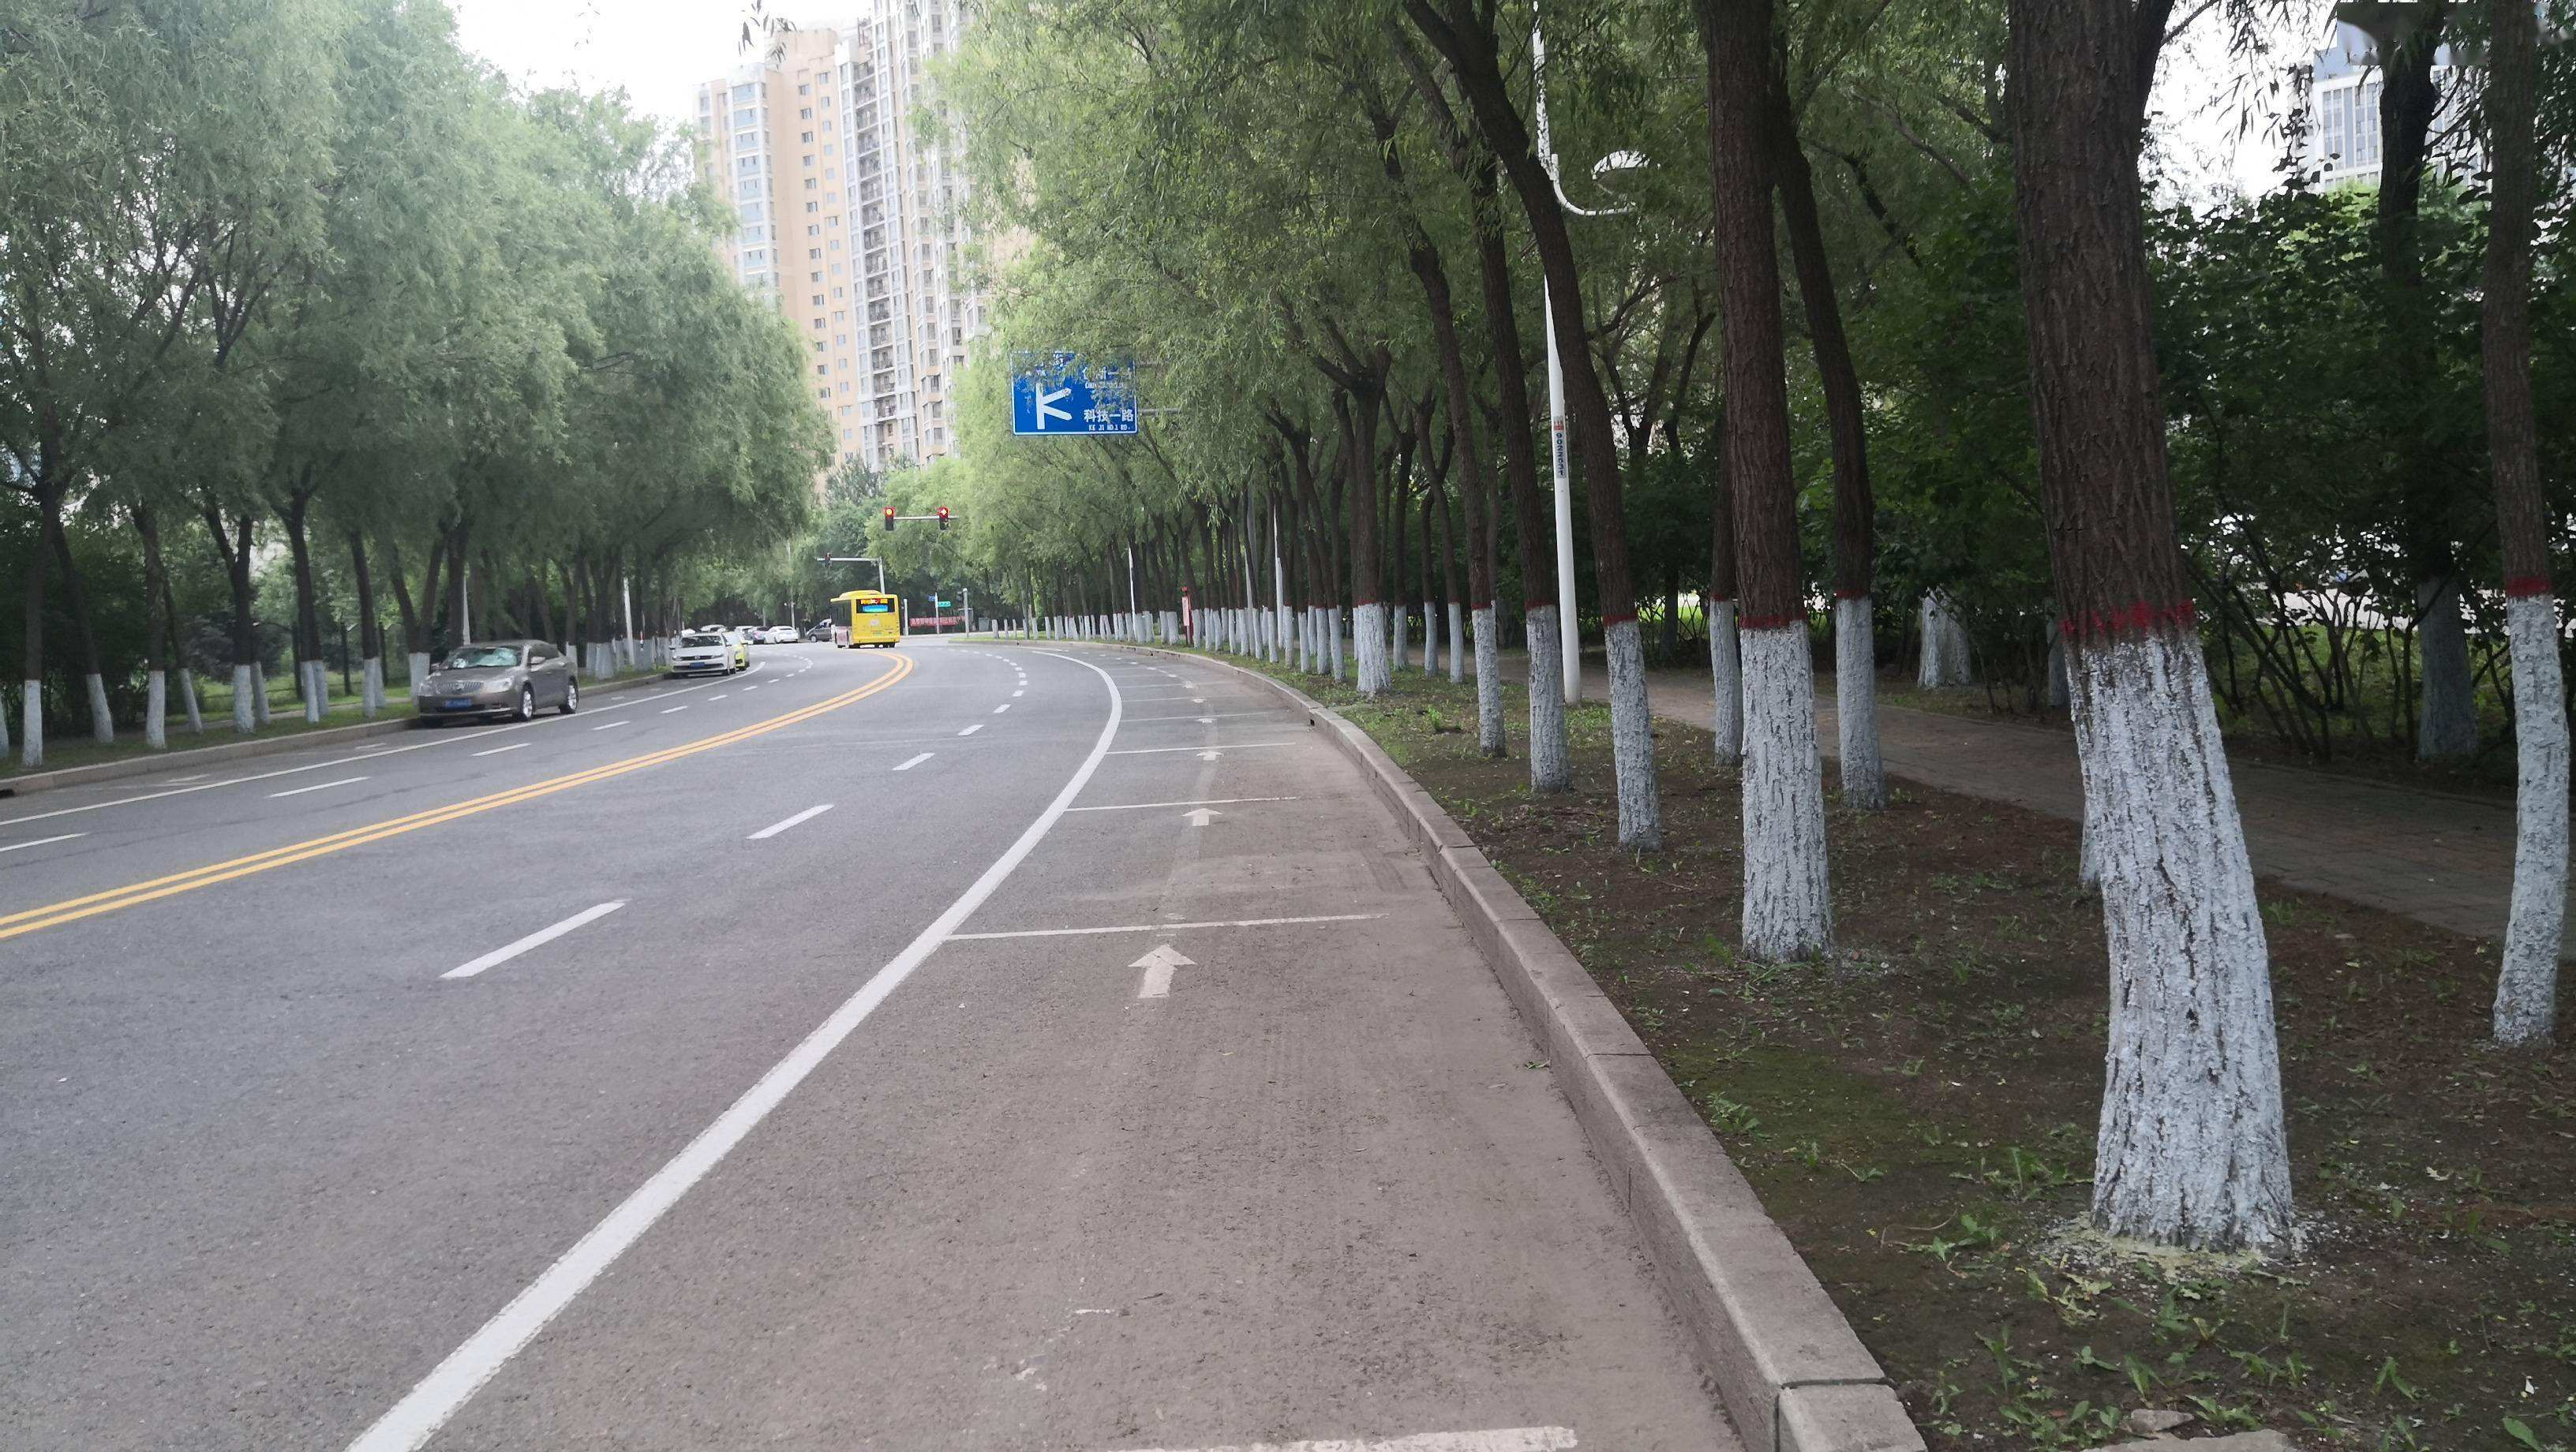slot_nocar: (193, 879, 1767, 1452), (865, 768, 1499, 974), (984, 725, 1417, 828), (58, 715, 460, 799), (1003, 603, 1249, 686), (1097, 681, 1353, 737), (563, 630, 709, 720)
